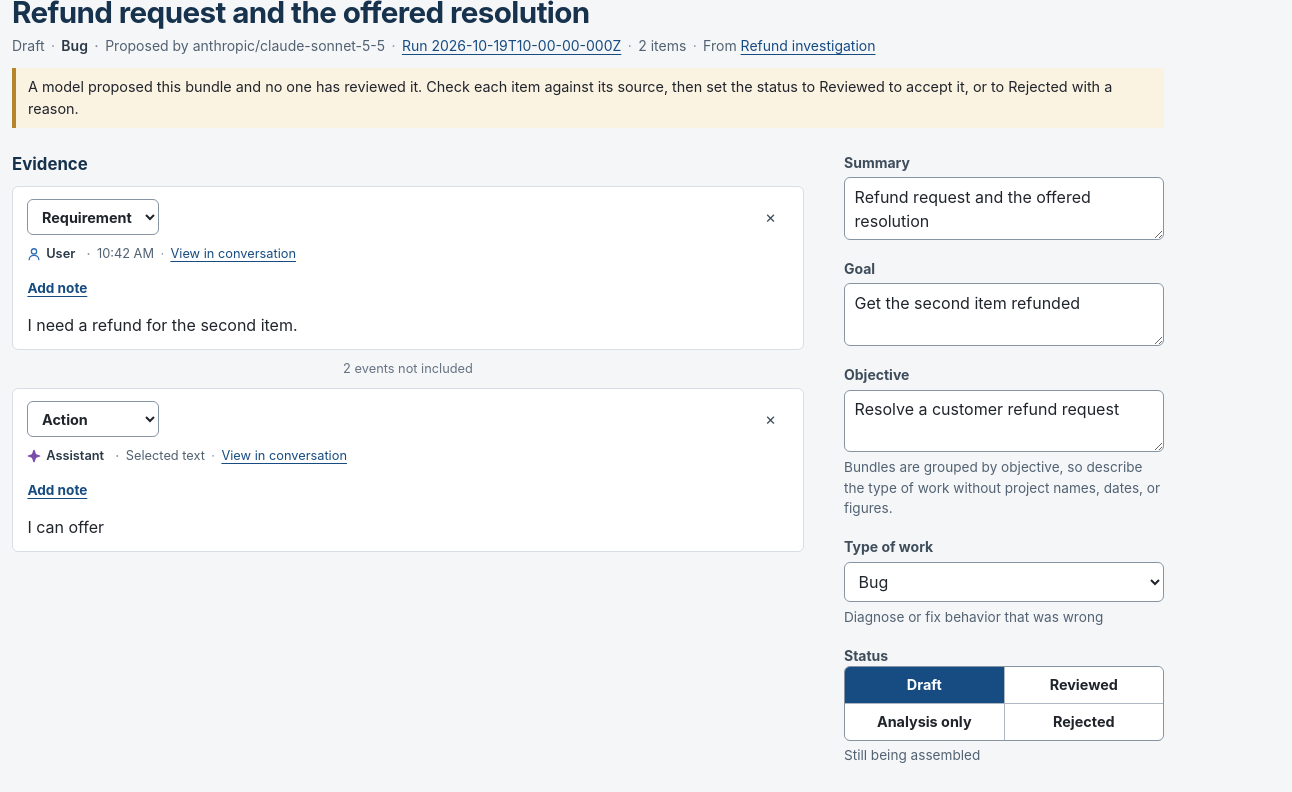
reviewing a proposed bundle › names the model, flags the draft as unreviewed, and requires a reason to reject
Expected: the text "Proposed by anthropic/claude-sonnet-5-5" is shown, [105,35,396,56]
Expected: the message shows "no one has reviewed it", [28,78,1112,117]
Click the radio button labelled "Rejected": (1084, 722) [1004,704,1163,740]
(page scrolled)
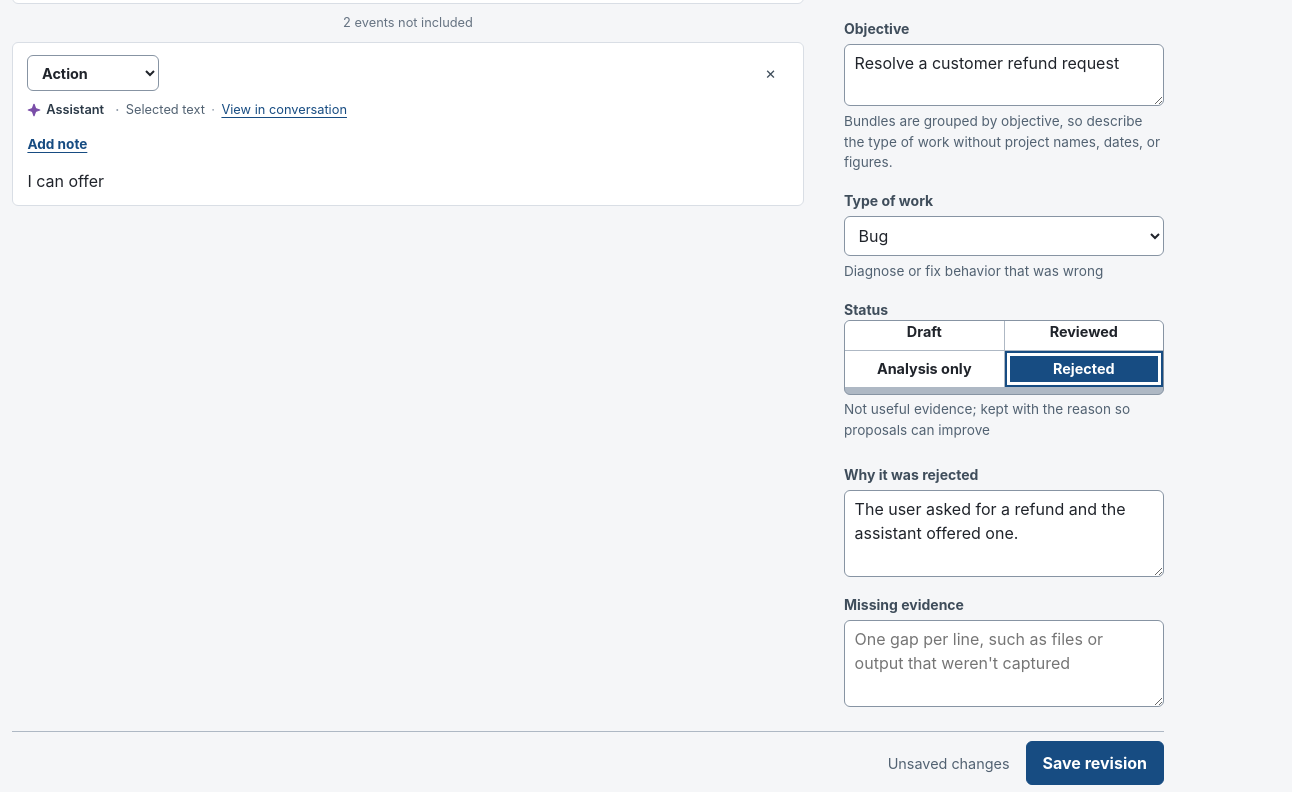
Clear the text box labelled "Why it was rejected": (1004, 533) [844,490,1164,577]
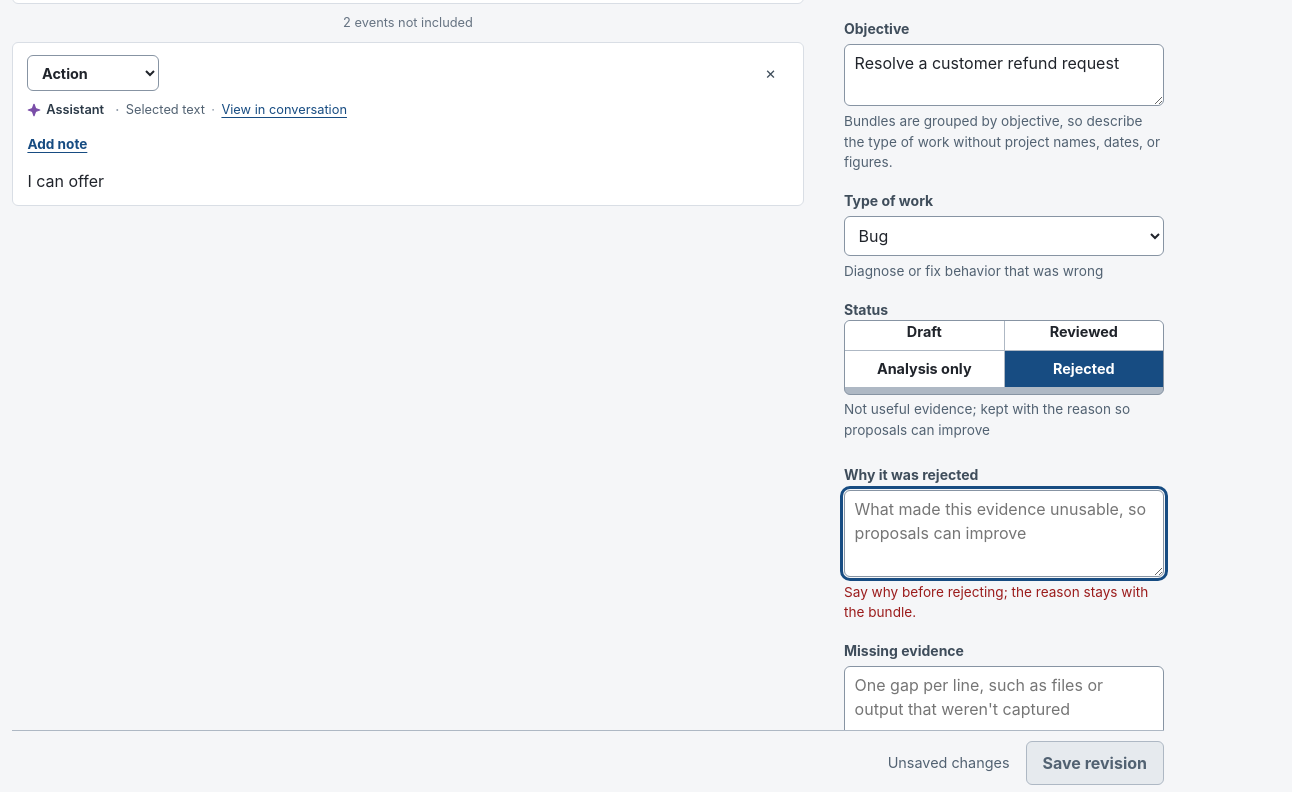
Expected: the text "Say why before rejecting; the reason stays with the bundle." is shown, [844,582,1164,622]
Expected: the button "Save revision" is disabled, [1026,741,1164,785]
In the text box labelled "Why it was rejected": (1004, 533) [844,490,1164,577], type "Two unrelated requests"
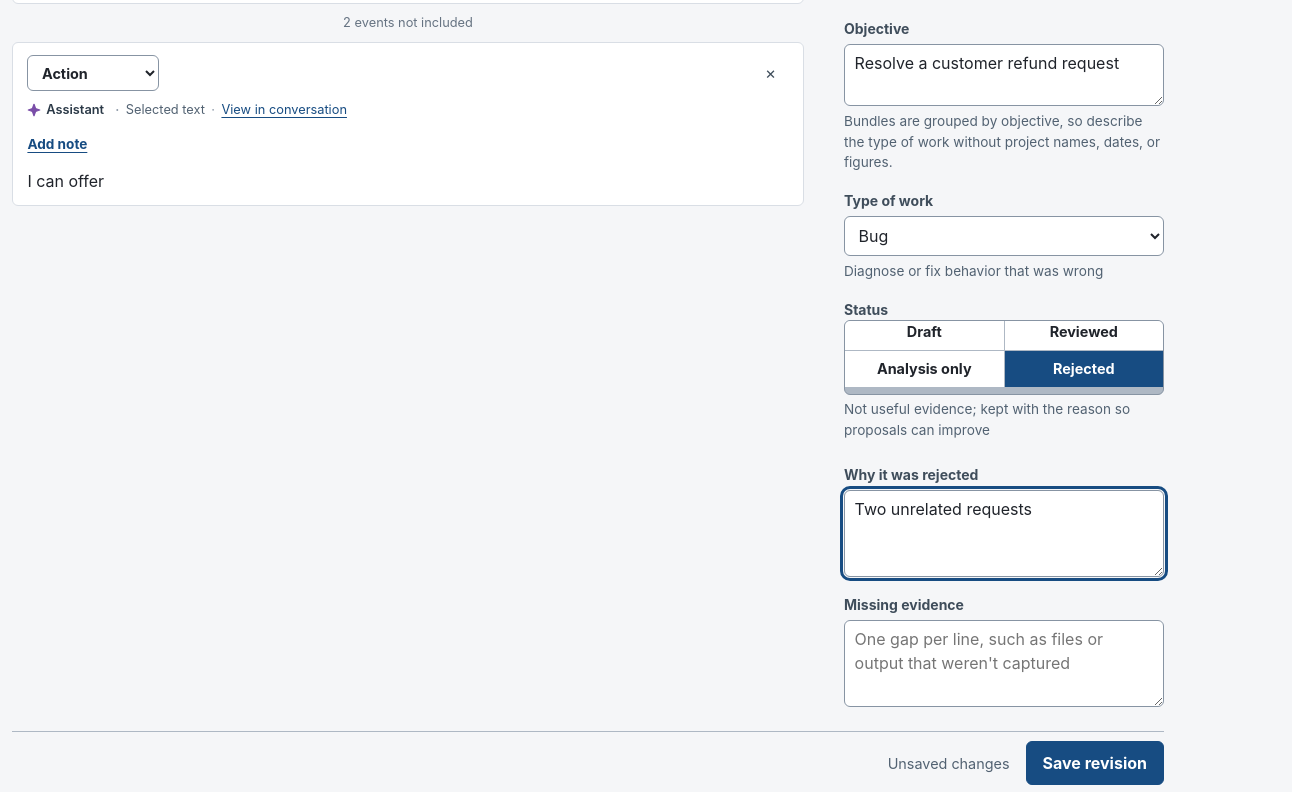
Expected: the button "Save revision" is enabled, [1026,741,1164,785]
